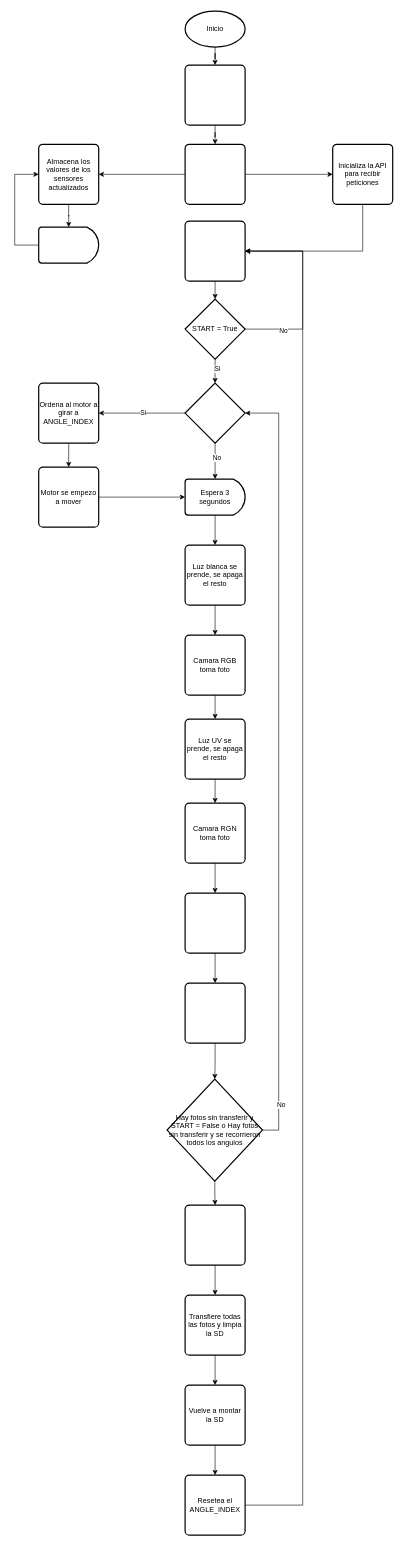
Image size: 404x1546. Some labels were removed from this diagram. Here are the shapes that lost their labels. From the top down, the box of each, then its label:
(184, 64, 245, 125): Inicializa el Hardware y los pines
(184, 143, 245, 205): Define los parametros constantes del programa
(38, 226, 99, 263): Espera 1 segundo
(184, 220, 245, 281): Actualiza el estado START/STOP si es diferente al estado anterior
(184, 382, 245, 443): Motor esta quieto?
(184, 892, 245, 953): Motor esta quieto Hay fotos sin transferir Incrementa el ANGLE_INDEX
(184, 982, 245, 1043): Apaga todas luces
(184, 1204, 245, 1265): Desmota la SD de la camara RGN
